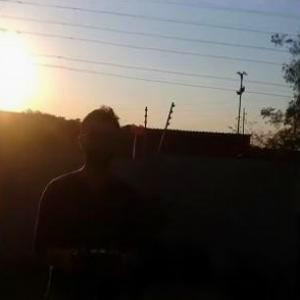follow: (34, 102, 151, 299)
